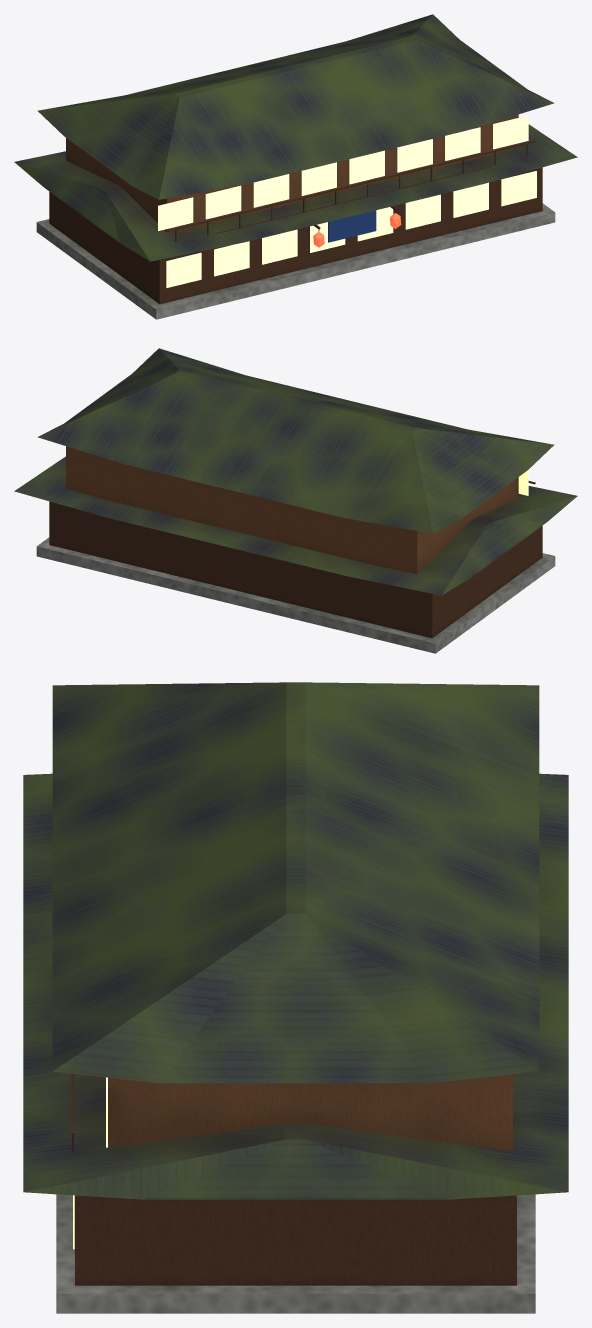
File: ryokan_tex.glb
3 views of the same model, one above another, from view 1: azimuth 30°, elevation 25°; view 2: azimuth 150°, elevation 25°; view 3: azimuth 270°, elevation 25° (orthographic). The views are drawn at different scales.
Parts seen in each view (by area): view 1: ryokan; view 2: ryokan; view 3: ryokan.
Boxes of the visible parts, bbox=[...] form: ryokan: bbox=[14, 14, 577, 319]; ryokan: bbox=[14, 348, 577, 653]; ryokan: bbox=[23, 682, 568, 1313].
Bounding box in the file's own units: 26.8 × 9.6 × 14.8.
7 materials, 4 textured.
